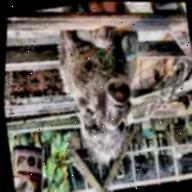boar: (37, 1, 159, 168)
